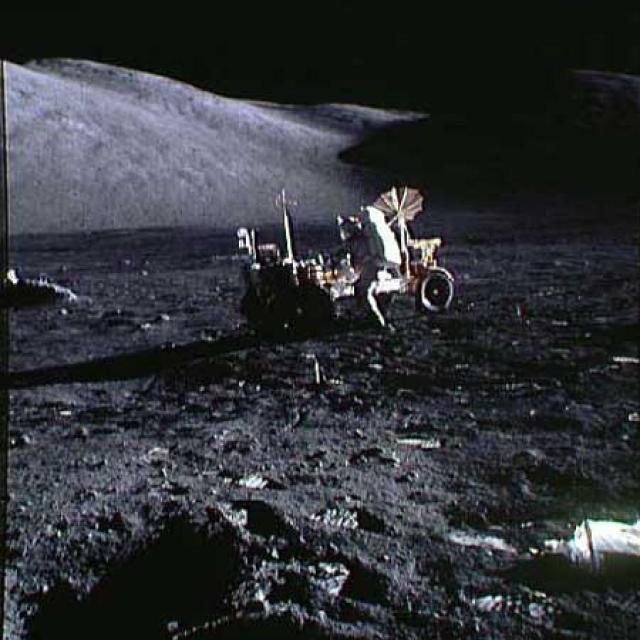artifact: (212, 173, 460, 336), (534, 507, 639, 578), (2, 256, 87, 305)
crater: (10, 522, 269, 639)
